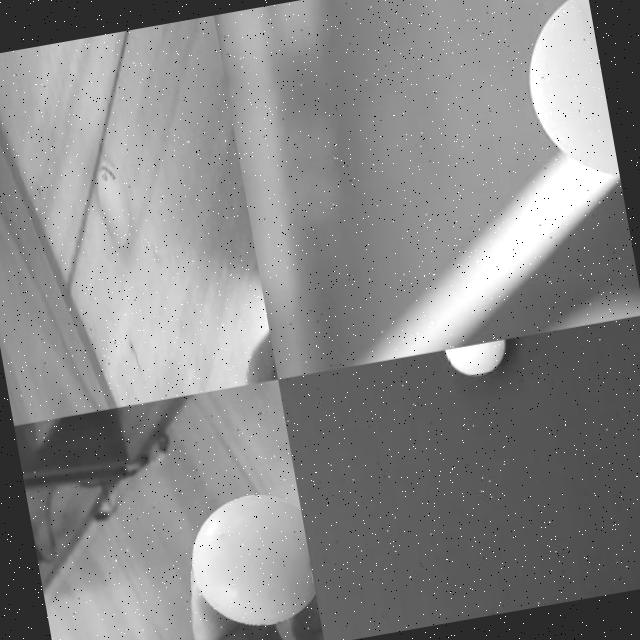ping-pong-ball: (179, 484, 318, 634), (512, 0, 620, 193), (91, 159, 132, 245), (443, 340, 507, 380)
